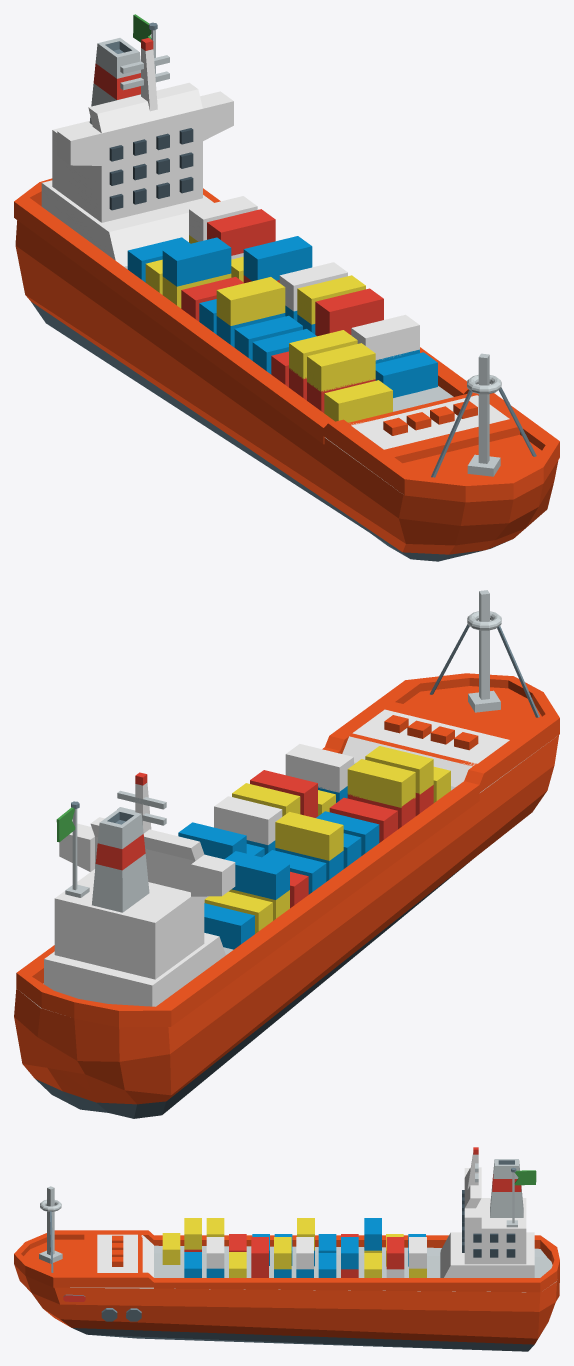
File: container_ship.glb
3 renders of one model, top to bottom at view 1: azimuth 30°, elevation 25°; view 2: azimuth 150°, elevation 25°; view 3: azimuth 270°, elevation 25°, orthographic. The views are drawn at different scales.
Visible parts, largest first — view 1: group2024440113, group582159379, group425647546, group1490881220, group708609790, group1429872227, group620926883, group1881423126, group645928749, group868781494, group1639735897, group774917317 (+18 smaller); view 2: group2024440113, group582159379, group1490881220, group425647546, group708609790, group1639735897, group1881423126, group1701587960, group2133724846, group2032867843, group645928749, group1224037610 (+16 smaller); view 3: group2024440113, group582159379, group1340366337, group1490881220, group708609790, group1639735897, group425647546, group122146175, group2133724846, group1723449364, group645928749, group774917317 (+20 smaller).
Boxes of the visible parts, <box> form: group2024440113: <box>15,220,558,561</box>; group582159379: <box>332,392,559,502</box>; group425647546: <box>14,197,334,444</box>; group1490881220: <box>52,120,202,222</box>; group708609790: <box>41,180,213,266</box>; group1429872227: <box>88,82,202,133</box>; group620926883: <box>101,109,202,165</box>; group1881423126: <box>216,277,285,325</box>; group645928749: <box>162,237,231,286</box>; group868781494: <box>307,343,375,391</box>; group1639735897: <box>89,38,140,124</box>; group774917317: <box>243,236,312,281</box>; group2024440113: <box>14,735,558,1118</box>; group582159379: <box>334,673,559,785</box>; group1490881220: <box>54,869,204,979</box>; group425647546: <box>156,781,479,1026</box>; group708609790: <box>44,933,225,1006</box>; group1639735897: <box>92,808,149,912</box>; group1881423126: <box>275,812,343,860</box>; group1701587960: <box>347,759,415,807</box>; group2133724846: <box>285,744,353,792</box>; group2032867843: <box>214,796,282,844</box>; group645928749: <box>224,851,289,899</box>; group1224037610: <box>74,999,171,1027</box>; group2024440113: <box>14,1245,559,1351</box>; group582159379: <box>14,1230,142,1287</box>; group1340366337: <box>154,1278,540,1292</box>; group1490881220: <box>464,1198,526,1264</box>; group708609790: <box>440,1232,534,1277</box>; group1639735897: <box>490,1159,523,1217</box>; group425647546: <box>154,1235,540,1248</box>; group122146175: <box>386,1237,404,1269</box>; group2133724846: <box>206,1237,224,1268</box>; group1723449364: <box>162,1233,180,1264</box>; group645928749: <box>364,1218,381,1250</box>; group774917317: <box>341,1237,358,1269</box>.
Bounding box in the file's own units: 0.21 × 0.3813 × 0.975.
